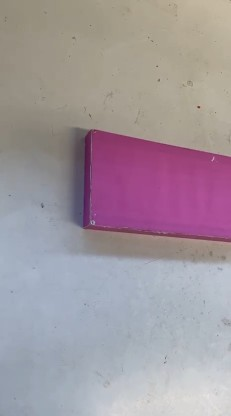pink: (83, 125, 224, 245)
